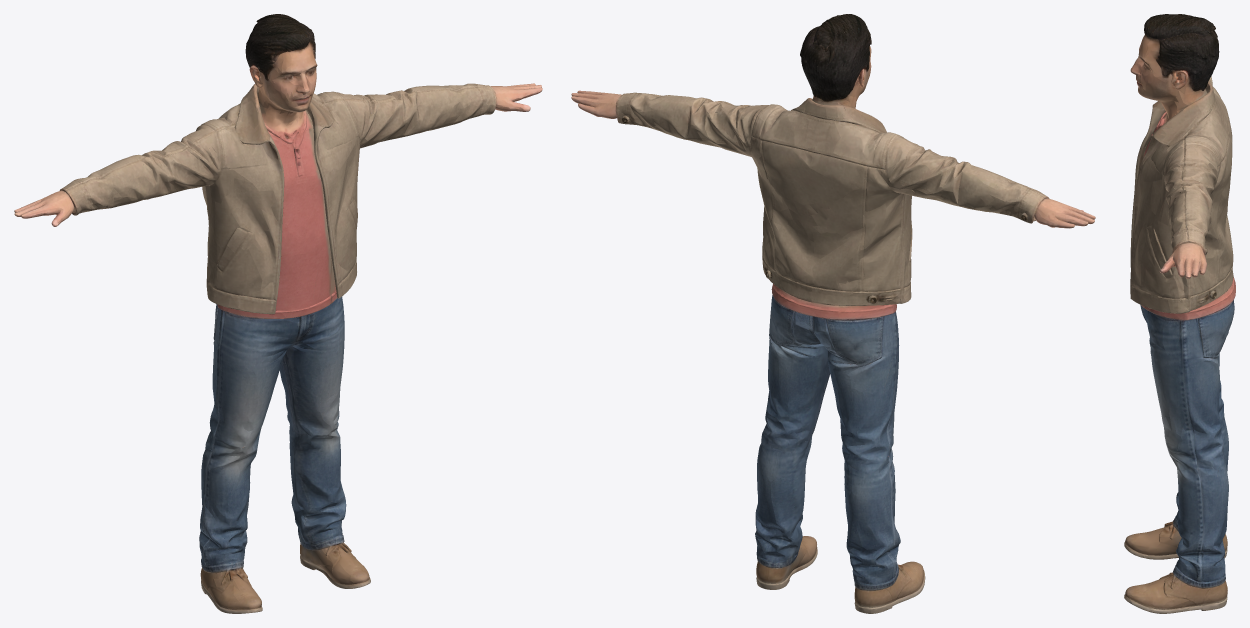
File: character_n04_generated.glb
3 renders of one model, left to right at view 1: azimuth 30°, elevation 25°; view 2: azimuth 150°, elevation 25°; view 3: azimuth 270°, elevation 25°, orthographic.
Size of the model in its own units: 1.85 by 1.9 by 0.3428.
1 material, 1 textured.
